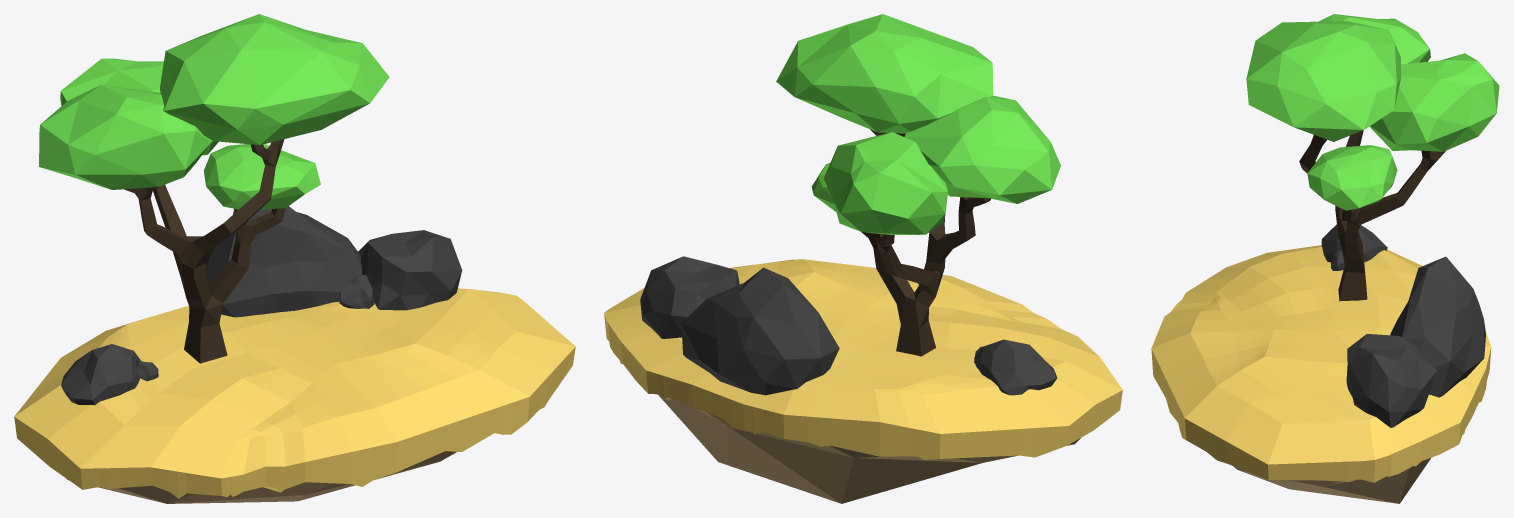
Rendered from miniisland.glb.
3 views of the same model, side by side, from view 1: azimuth 30°, elevation 25°; view 2: azimuth 150°, elevation 25°; view 3: azimuth 270°, elevation 25° (orthographic). The views are drawn at different scales.
Parts seen in each view (by area): view 1: Part 4, Part 2, Part 3, Part 1, Part 5; view 2: Part 4, Part 2, Part 3, Part 5, Part 1; view 3: Part 4, Part 2, Part 3, Part 1, Part 5.
Part boxes in pixels (x1,y1,x2,y2): Part 4: (14, 288, 575, 498); Part 2: (39, 14, 389, 209); Part 3: (61, 206, 462, 405); Part 1: (124, 139, 285, 363); Part 5: (66, 451, 456, 503); Part 4: (604, 259, 1122, 459); Part 2: (776, 14, 1060, 234); Part 3: (640, 256, 1057, 395); Part 5: (658, 394, 1080, 503); Part 1: (861, 129, 990, 356); Part 4: (1151, 245, 1491, 482); Part 2: (1246, 14, 1499, 210); Part 3: (1321, 224, 1485, 427); Part 1: (1299, 130, 1445, 301); Part 5: (1233, 458, 1430, 503).
Bounding box in the file's own units: 1.53 × 1.38 × 1.04.
